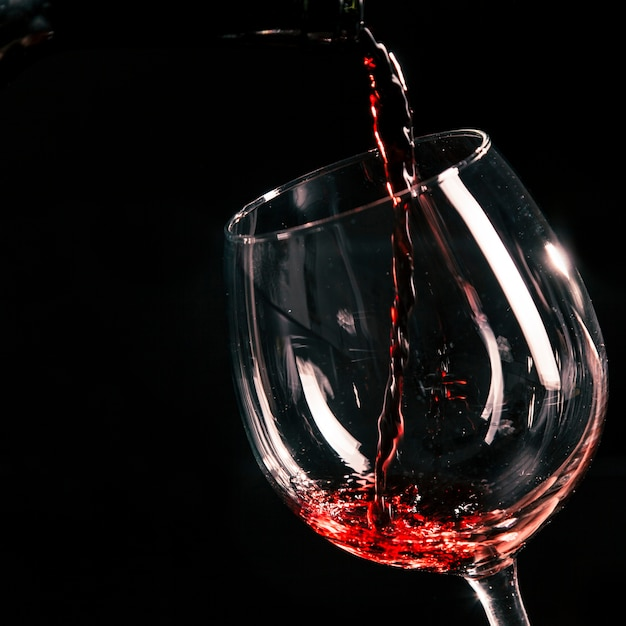alcohol: (223, 127, 609, 626), (0, 0, 369, 59)
